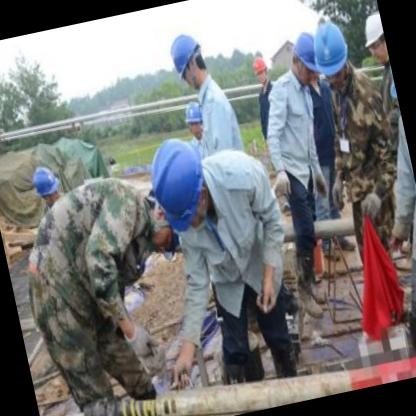helmet: (137, 128, 219, 241), (300, 11, 354, 89), (162, 24, 213, 96), (287, 26, 328, 90), (356, 6, 389, 66), (28, 162, 64, 210), (179, 98, 212, 148), (247, 46, 272, 89)
